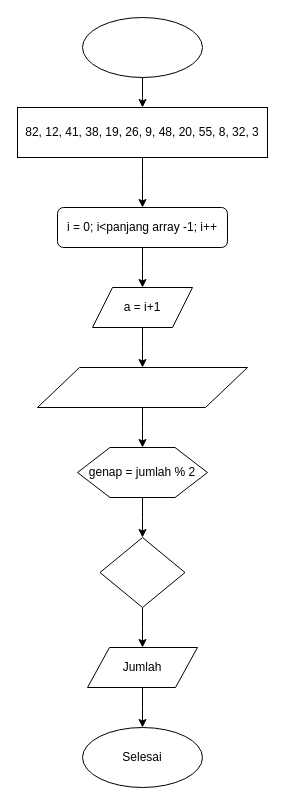
Some shapes in this 285 by 805 pixel diagram are drawn without their labels. The shapes that lost their labels are listed below. From the top down, each one's centre as x and y in pixels, then its label:
point 142,47: Mulai
point 142,387: jumlah = angka[i]+angka[a]
point 142,572: genap == 0
